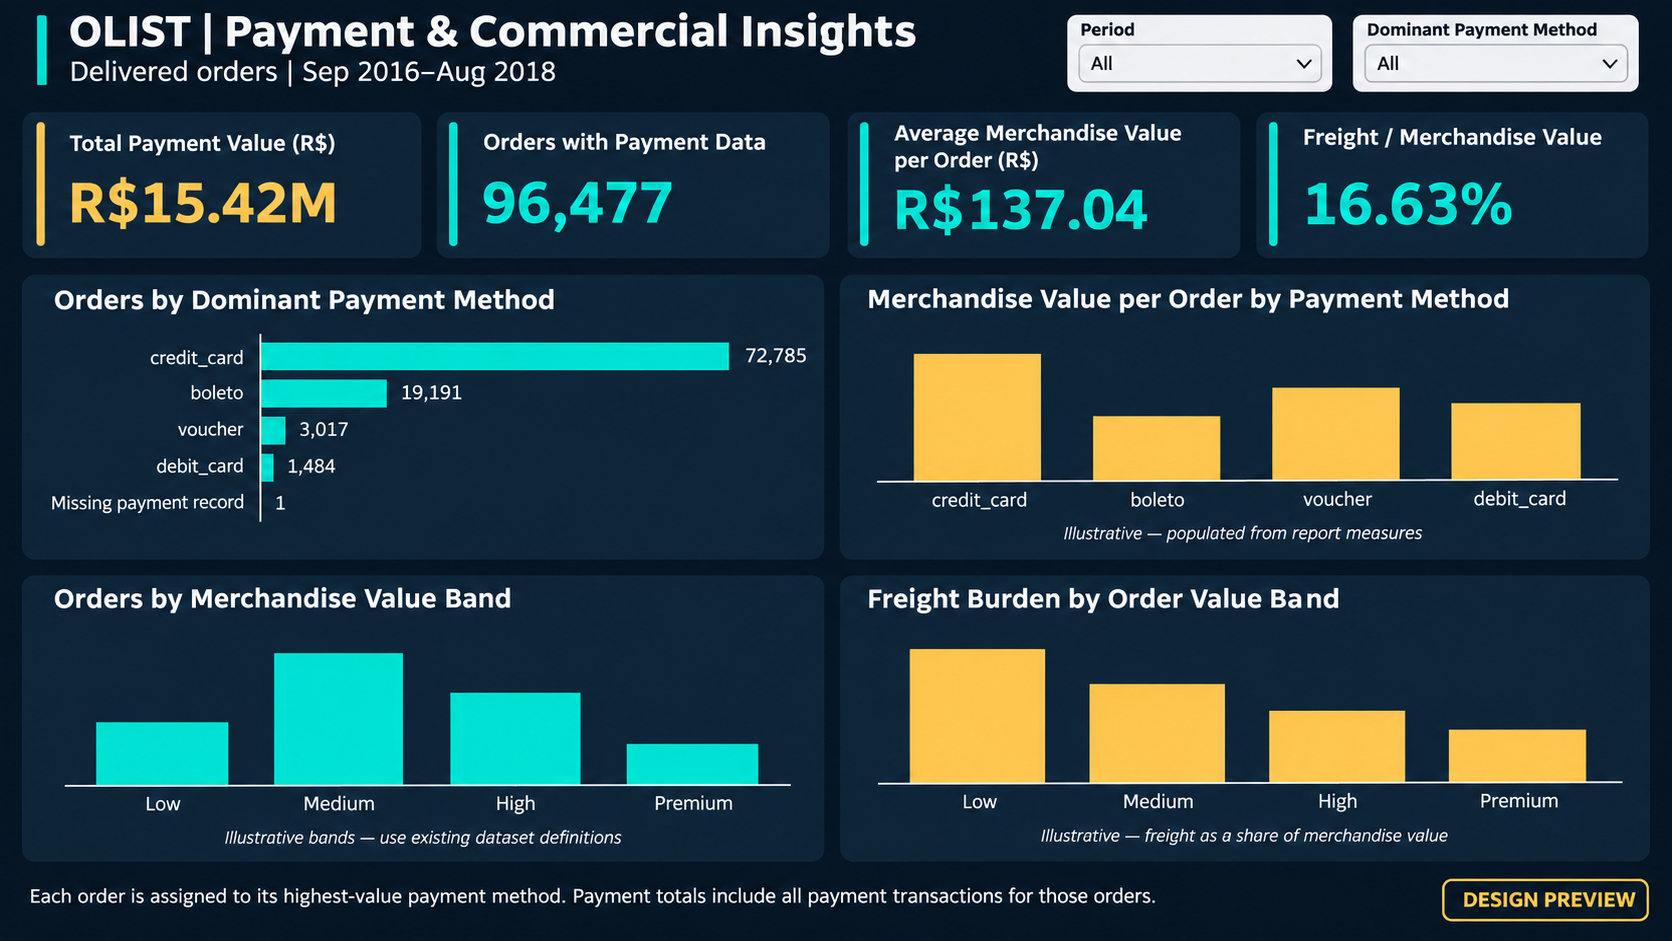

The dashboard page shown, as its layout file describes it:
{"tool":"powerbi","page":{"name":"Payment & Commercial Insights","canvas":[1920,1080],"ordinal":4},"visuals":[{"type":"textbox","box":[40,16,1400,80],"z":0},{"type":"textbox","box":[40,88,1400,32],"z":1000},{"type":"cardVisual","title":"Total Payment Value","fields":{"Data":["fact_orders.Total Payment Value"]},"box":[40,144,445,160],"z":2000},{"type":"cardVisual","title":"Orders with Payment Data","fields":{"Data":["fact_orders.Orders with Payment Data"]},"box":[505,144,445,160],"z":3000},{"type":"cardVisual","title":"Avg. Merchandise Value per Order","fields":{"Data":["fact_orders.Average Merchandise Value per Order"]},"box":[970,144,445,160],"z":4000},{"type":"cardVisual","title":"Freight / Merchandise Value (%)","fields":{"Data":["fact_order_items.Freight % Merchandise GMV"]},"box":[1435,144,445,160],"z":5000},{"type":"slicer","title":"Period","fields":{"Values":["dim_date.year_month"]},"box":[1460,24,180,88],"z":6000},{"type":"slicer","title":"Dominant Payment Method","fields":{"Values":["dim_payment_method.dominant_payment_method_key"]},"box":[1660,24,220,112],"z":7000},{"type":"clusteredBarChart","title":"Orders by Dominant Payment Method","fields":{"Category":["dim_payment_method.dominant_payment_method_key"],"Y":["fact_orders.Delivered Orders"]},"box":[40,328,910,340],"z":8000},{"type":"clusteredColumnChart","title":"Average Merchandise Value per Order by Payment Method (R$)","fields":{"Category":["dim_payment_method.dominant_payment_method_key"],"Y":["fact_orders.Average Merchandise Value per Order"]},"box":[970,328,910,340],"z":9000},{"type":"clusteredBarChart","title":"Orders by Merchandise Value Band","fields":{"Category":["fact_orders.order_value_band"],"Y":["fact_orders.Delivered Orders"]},"box":[40.5,688,910,340],"z":10000},{"type":"clusteredBarChart","title":"Freight / Merchandise Value by Order Value Band (%)","fields":{"Category":["fact_orders.order_value_band"],"Y":["fact_order_items.Freight % Merchandise GMV"]},"box":[968.9,688.5,910,340],"z":10001},{"type":"textbox","box":[40.6,1042.4,1839.2,36.7],"z":10002}]}

Visuals, with their boxes in screenshot pixels (x1, y1, x2, y2), scaled from the page's 1920x1080 canvas onto the 1672x941 screenshot:
textbox: <region>35, 14, 1254, 84</region>
textbox: <region>35, 77, 1254, 105</region>
"Total Payment Value" cardVisual: <region>35, 125, 422, 265</region>
"Orders with Payment Data" cardVisual: <region>440, 125, 827, 265</region>
"Avg. Merchandise Value per Order" cardVisual: <region>845, 125, 1232, 265</region>
"Freight / Merchandise Value (%)" cardVisual: <region>1250, 125, 1637, 265</region>
"Period" slicer: <region>1271, 21, 1428, 98</region>
"Dominant Payment Method" slicer: <region>1446, 21, 1637, 118</region>
"Orders by Dominant Payment Method" clusteredBarChart: <region>35, 286, 827, 582</region>
"Average Merchandise Value per Order by Payment Method (R$)" clusteredColumnChart: <region>845, 286, 1637, 582</region>
"Orders by Merchandise Value Band" clusteredBarChart: <region>35, 599, 828, 896</region>
"Freight / Merchandise Value by Order Value Band (%)" clusteredBarChart: <region>844, 600, 1636, 896</region>
textbox: <region>35, 908, 1637, 940</region>
